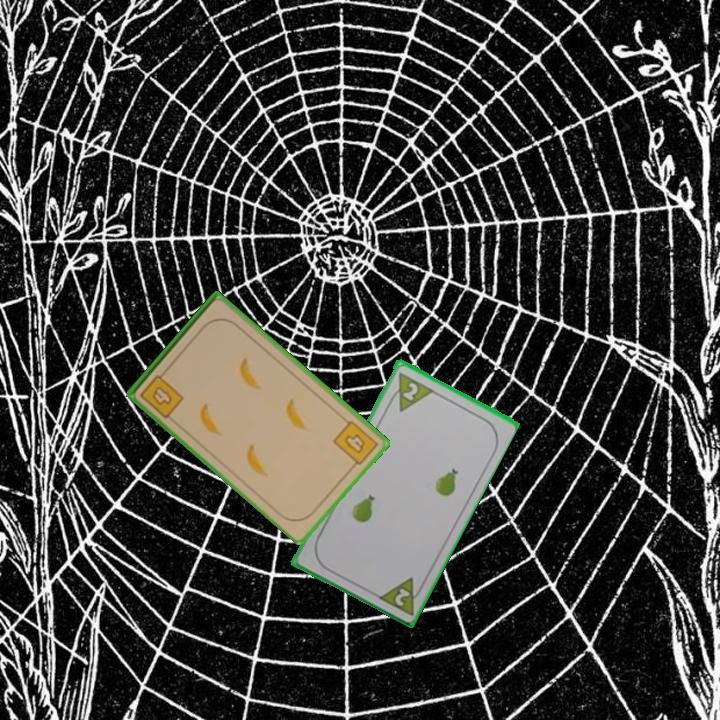2p: (373, 573, 428, 618), (384, 368, 435, 414)
4b: (329, 417, 381, 472), (136, 366, 187, 421)
